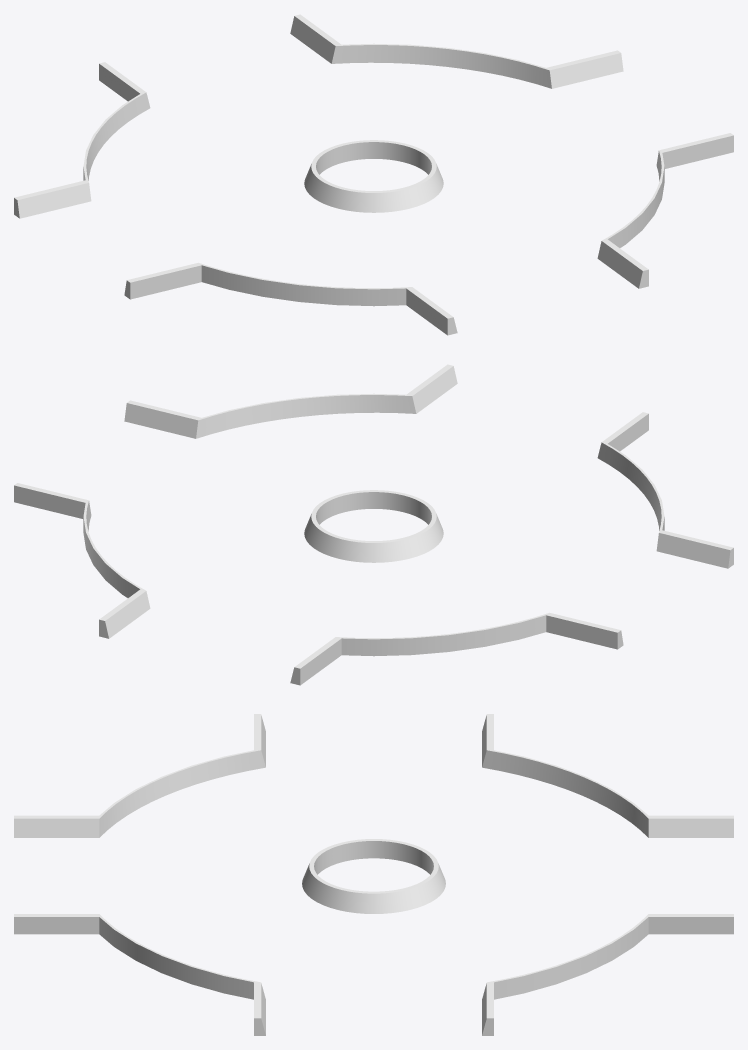
Rendered from road-roundabout-barrier.glb.
3 views of the same model, one above another, from view 1: azimuth 30°, elevation 25°; view 2: azimuth 150°, elevation 25°; view 3: azimuth 270°, elevation 25° (orthographic). The views are drawn at different scales.
Parts seen in each view (by area): view 1: road-roundabout-barrier; view 2: road-roundabout-barrier; view 3: road-roundabout-barrier.
Boxes of the visible parts, box(x1,y1,x2,y2) form: road-roundabout-barrier: box(14, 14, 733, 335); road-roundabout-barrier: box(14, 364, 733, 685); road-roundabout-barrier: box(14, 714, 733, 1035).
Size of the model in its own units: 3 by 0.08 by 3.
1 material, 1 textured.
